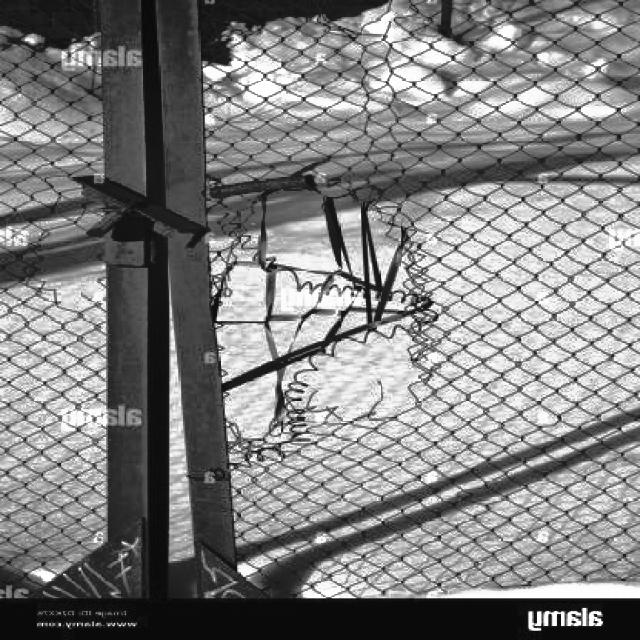anomaly-fence: (184, 138, 451, 472), (21, 172, 135, 346)
